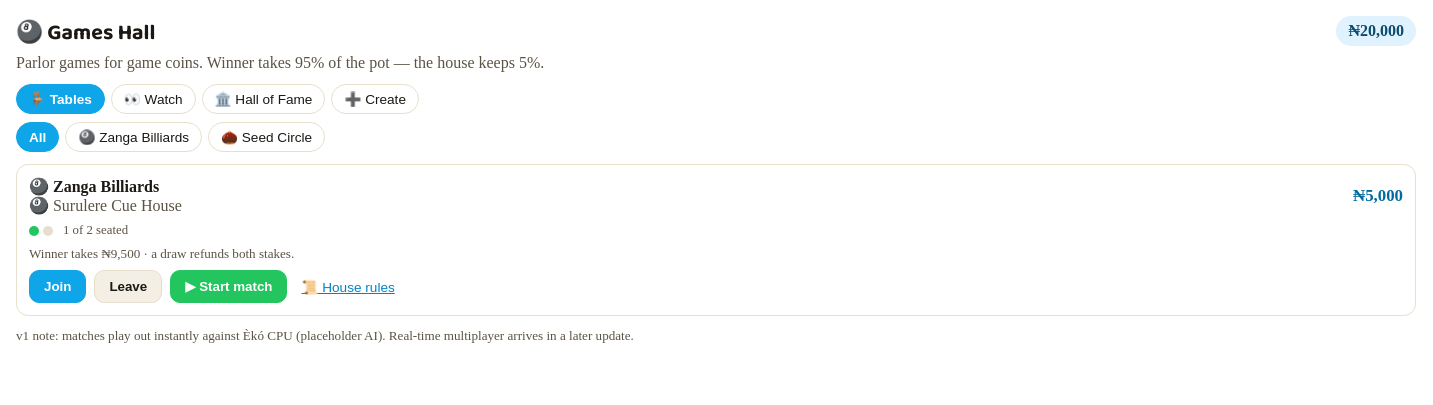
Test: GamesApp › join surfaces server errors as a toast
Click the button "Join". click: (58, 286)
box: left=29, top=270, right=86, bottom=303
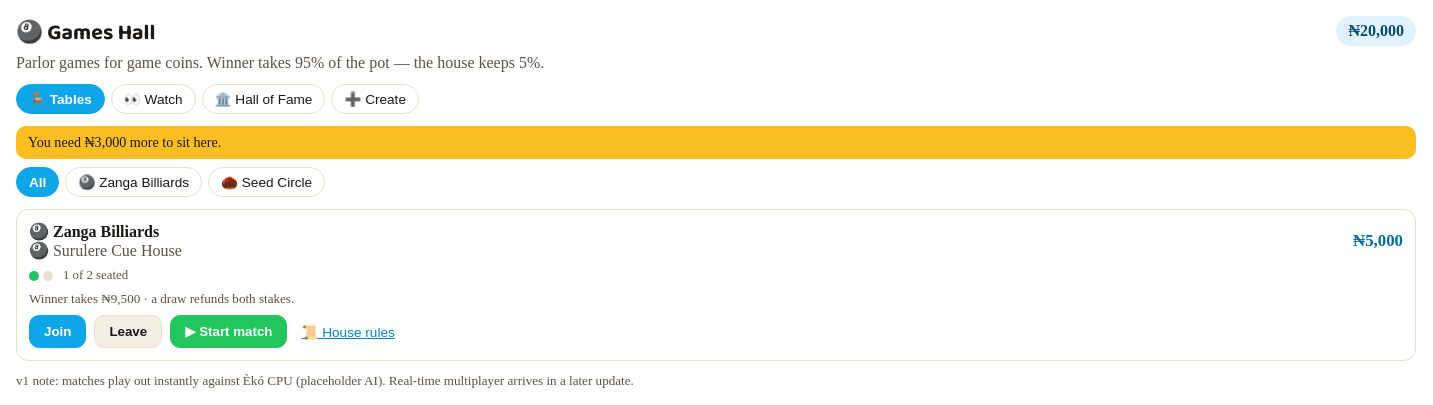
Check: the message shows "need ₦3,000 more", box left=28, top=134, right=221, bottom=150
